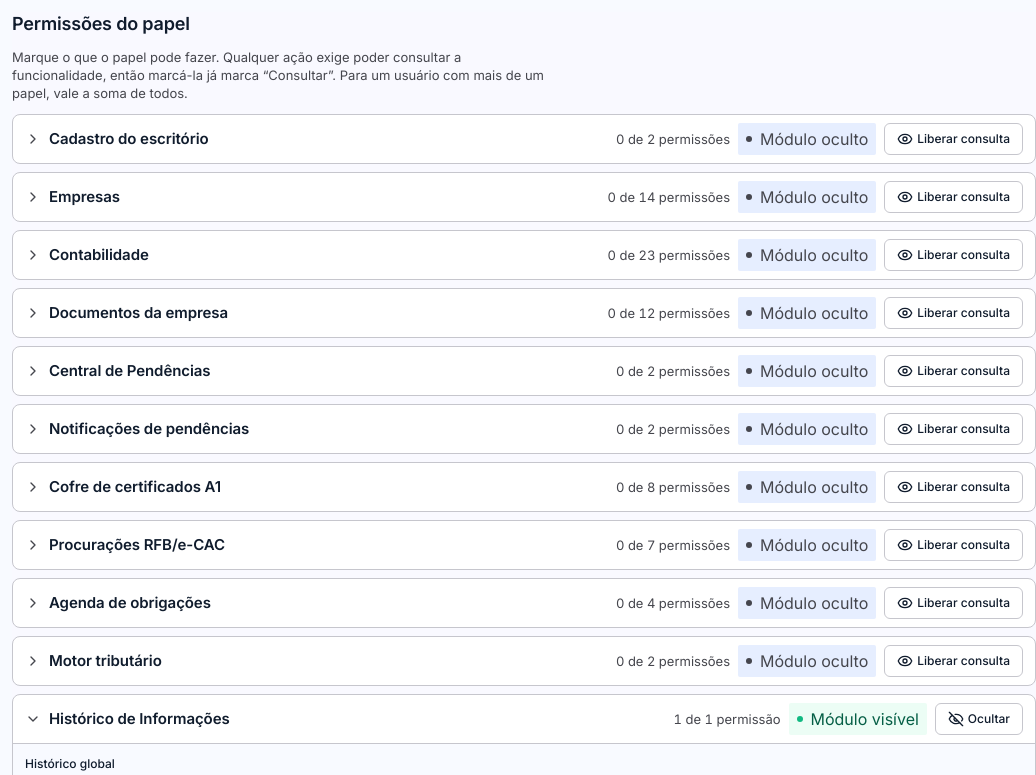
Scenario: ocultar módulo (§3.3) › módulo oculto oferece Liberar consulta, que marca só Consultar de cada funcionalidade
Click the button with aria-label "Liberar consulta em Documentos da empresa" at (954,313), box [884,297,1023,329]
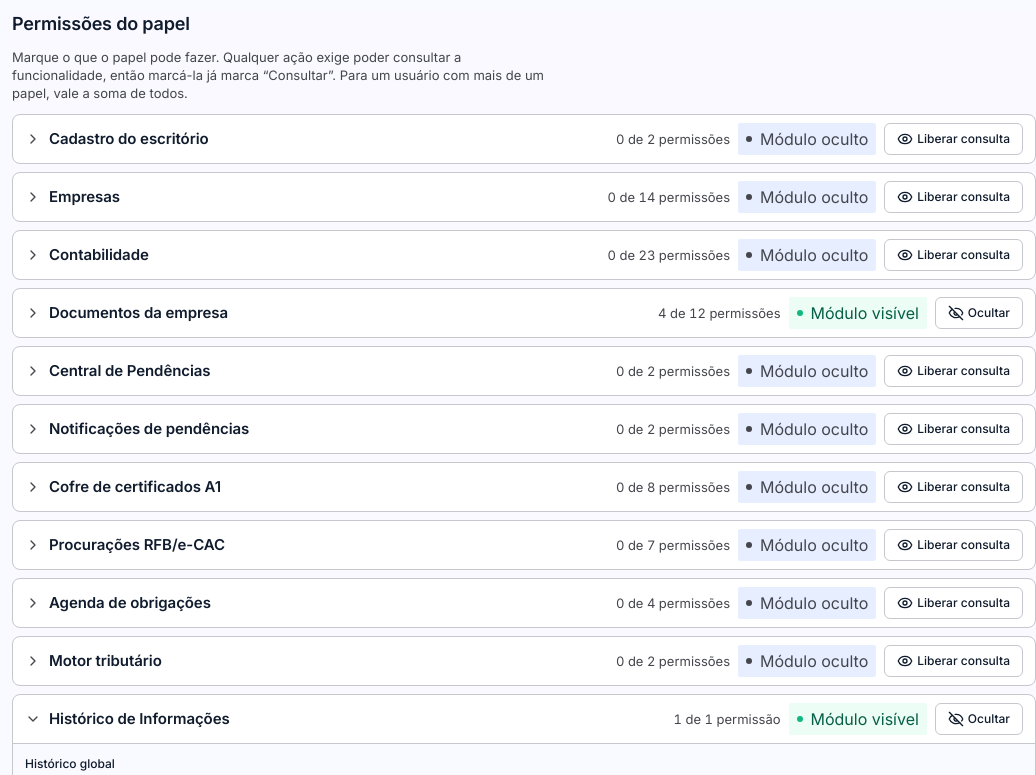
Expected: the text "Módulo visível" is shown, [788,297,927,329]
